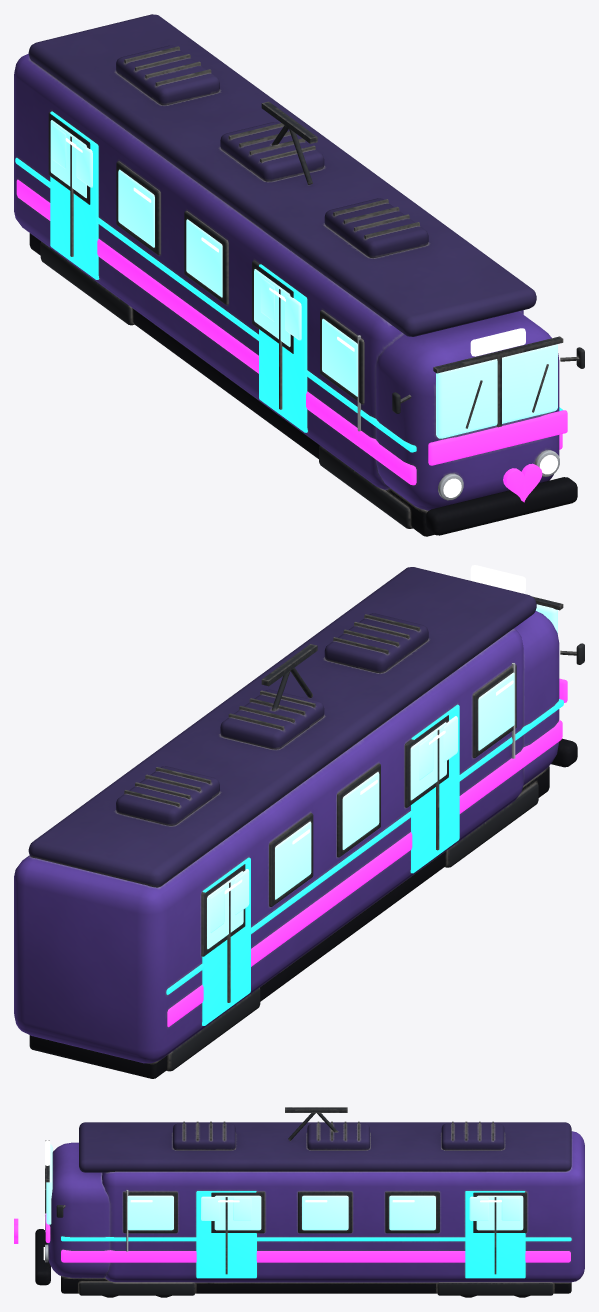
File: rn_future_train.glb
The picture shows the model from 3 angles, top to bottom: view 1: azimuth 30°, elevation 25°; view 2: azimuth 150°, elevation 25°; view 3: azimuth 270°, elevation 25°; orthographic projection. The views are drawn at different scales.
Visible parts, largest first — view 1: rn_future_train; view 2: rn_future_train; view 3: rn_future_train.
Boxes of the visible parts, x1,y1,x2,y2 form: rn_future_train: (14,14,584,536); rn_future_train: (14,565,584,1078); rn_future_train: (14,1107,584,1297).
Size of the model in its own units: 3.14 by 4.34 by 12.75.
11 materials, 11 textured.
